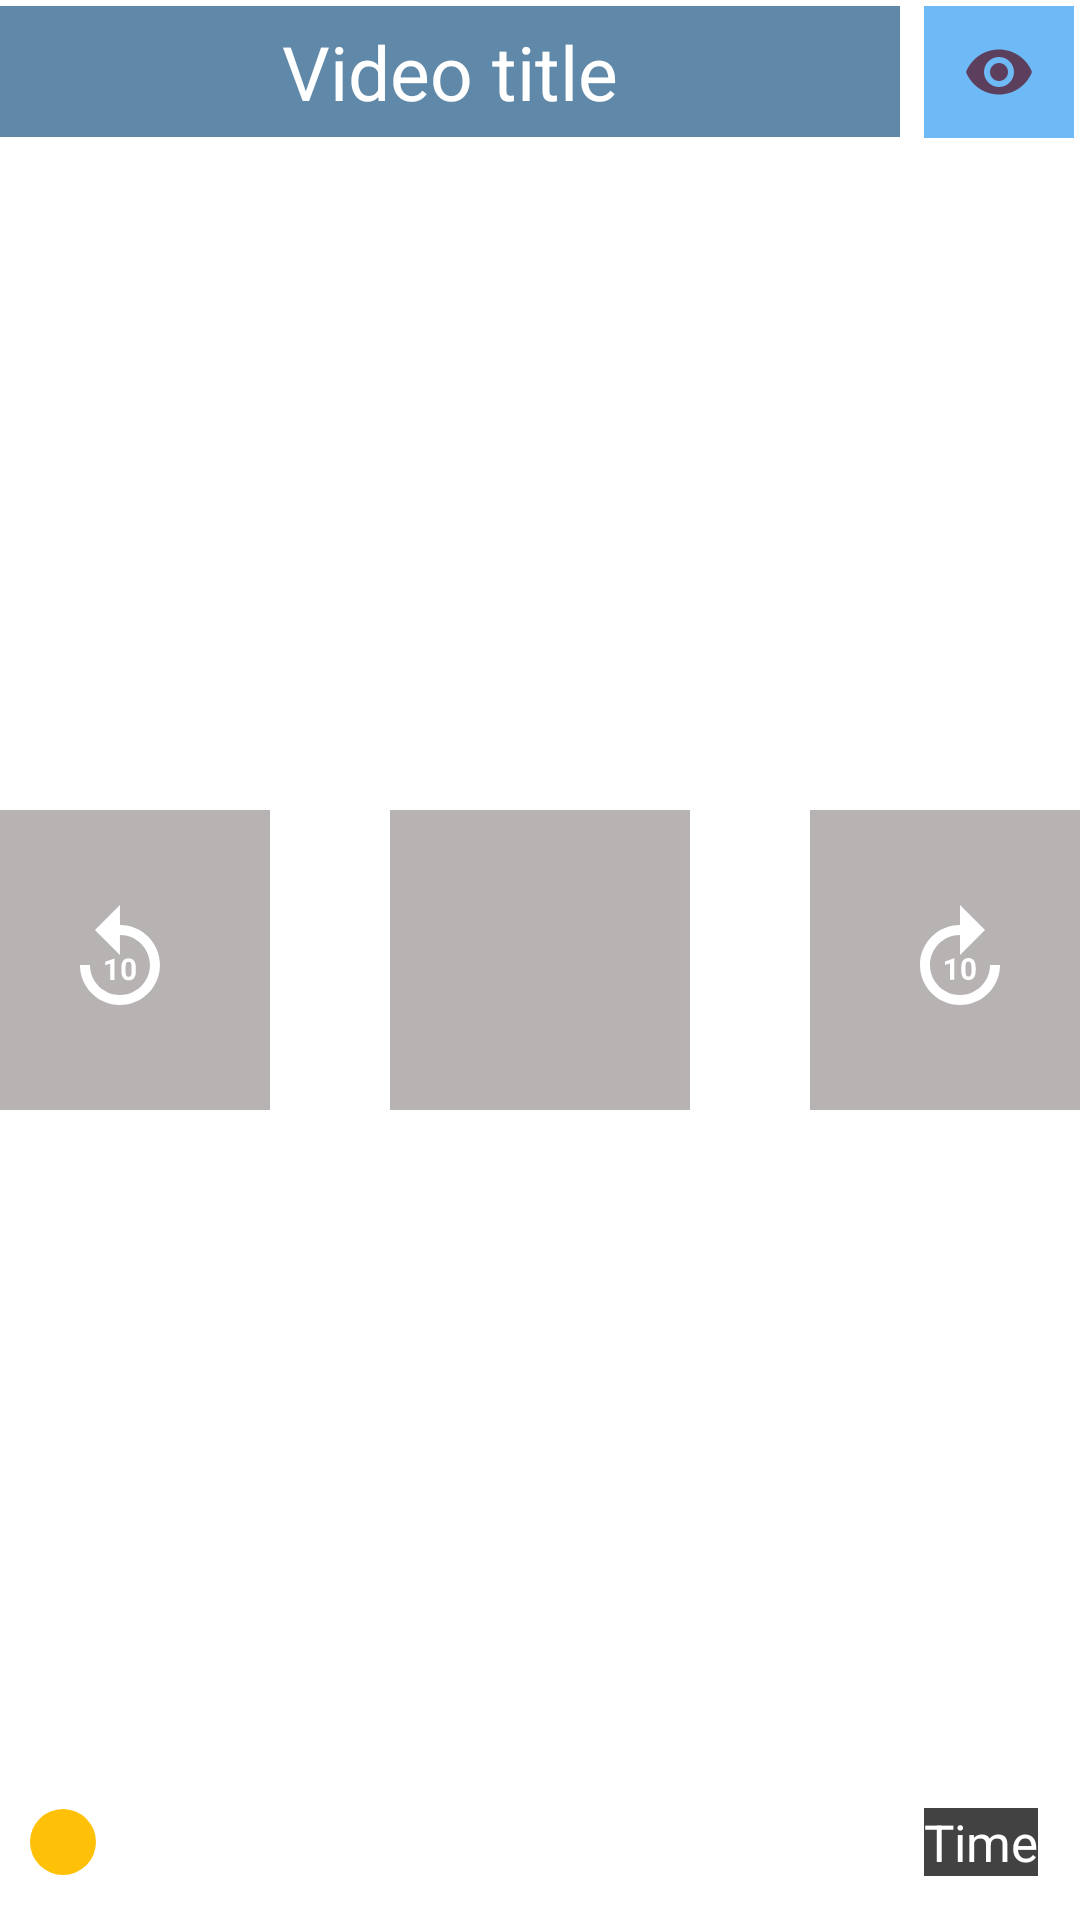

Where to tap for icons on this 1080w x 1920h app screen, as (x,y):
eyetrack: (999,72)
forward: (945,960)
replay: (135,960)
